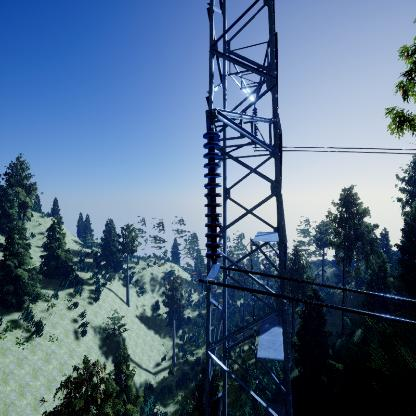insulator: (202, 129, 227, 263)
